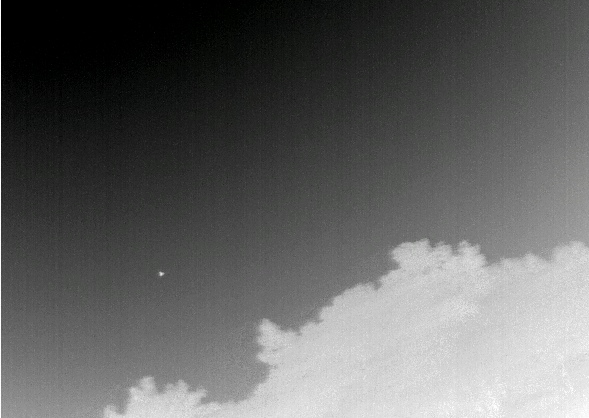dim target: (157, 270, 166, 278)
